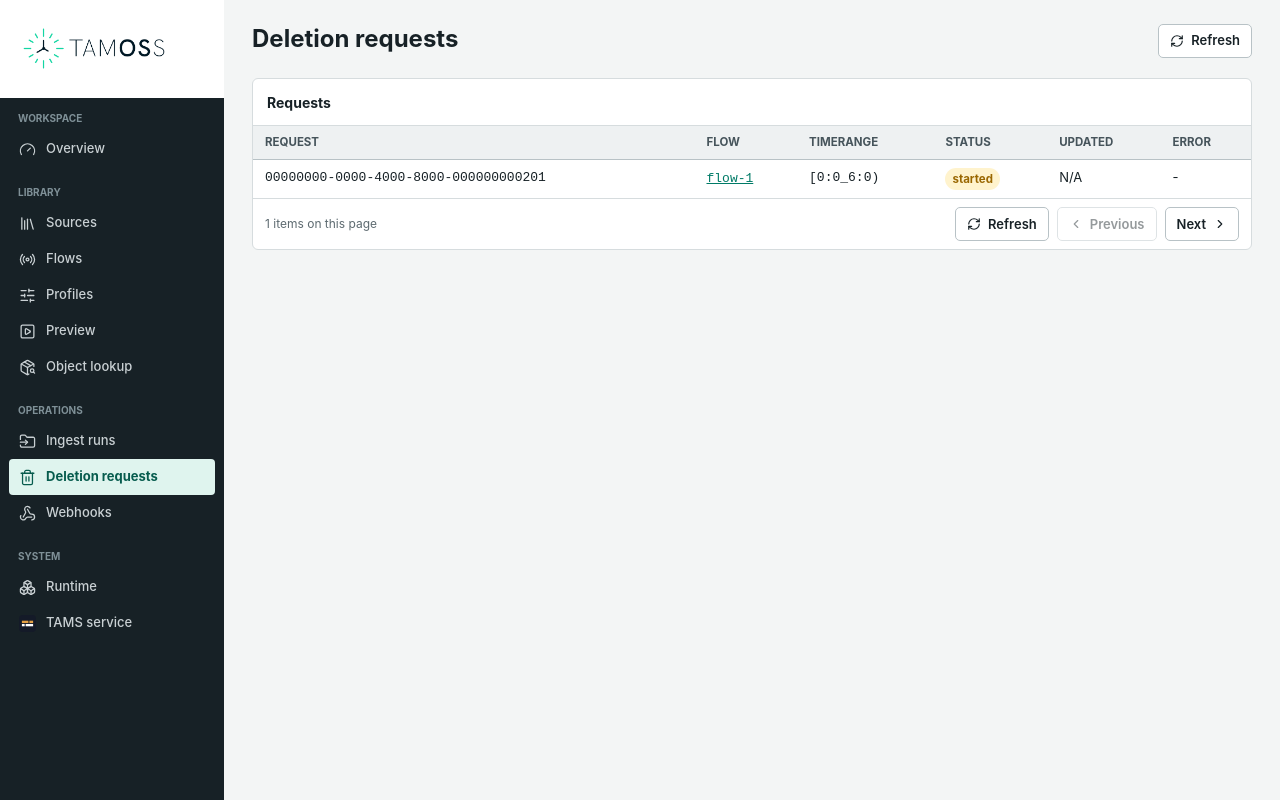
it: operational routes › pages deletion requests without accumulating earlier results
Expected: the text "00000000-0000-4000-8000-000000000201" is shown, [253,160,694,198]
Click the button "Next" at point(1202, 224), box [1164,207,1239,241]
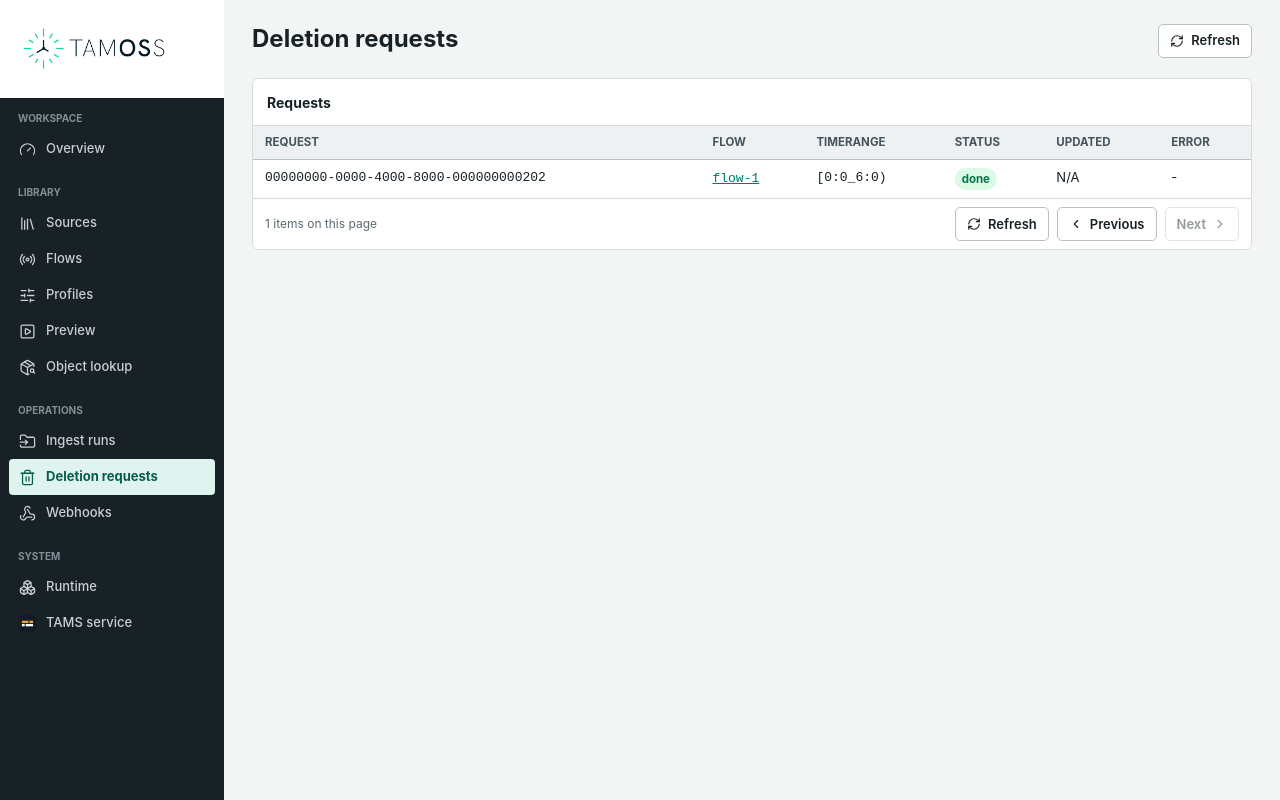
Now the text "00000000-0000-4000-8000-000000000202" is shown, box [253,160,700,198]
Now the text "00000000-0000-4000-8000-000000000201" is gone
